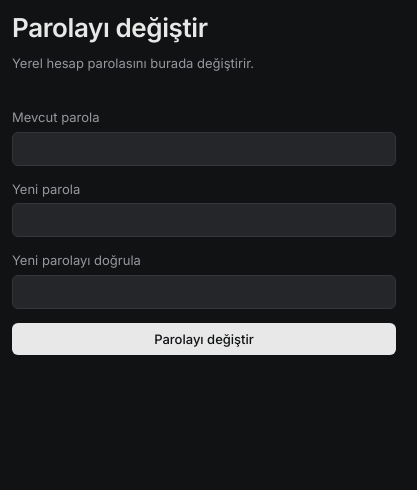
Test: the password policy refusal › lists the coded reasons in Turkish
Type "old-password-1" into the password field labelled "Mevcut parola". click: (204, 148)
box: [12,132,396,166]
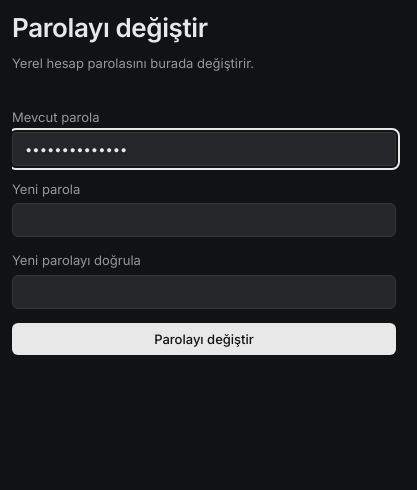
Type "short" into the password field labelled "Yeni parola". click: (204, 220)
box: [12,203,396,237]
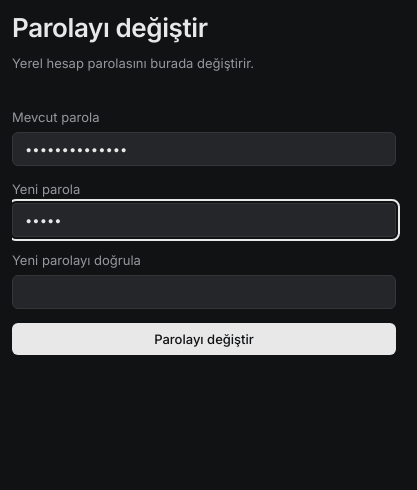
Type "short" into the password field labelled "Yeni parolayı doğrula". click: (204, 292)
box: [12,274,396,308]
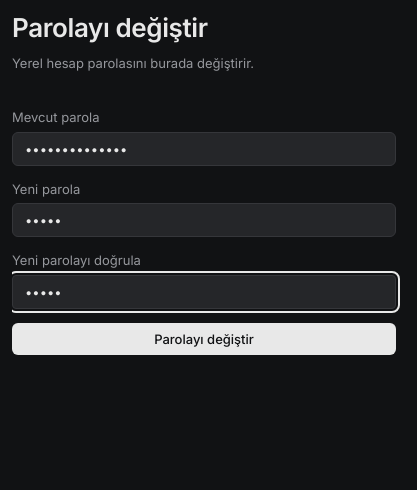
Click the button "Parolayı değiştir". click: (204, 338)
box: [12,322,396,354]
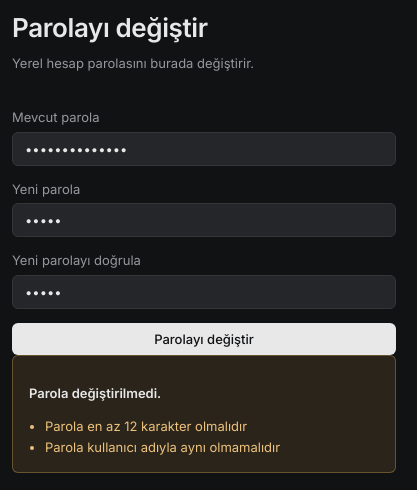
Expected: the message does not show "password must", [12,354,396,473]
Expected: the message shows "Parola en az 12 karakter olmalıdır", [45,418,247,434]
Expected: the message shows "Parola kullanıcı adıyla aynı olmamalıdır", [45,439,280,455]
